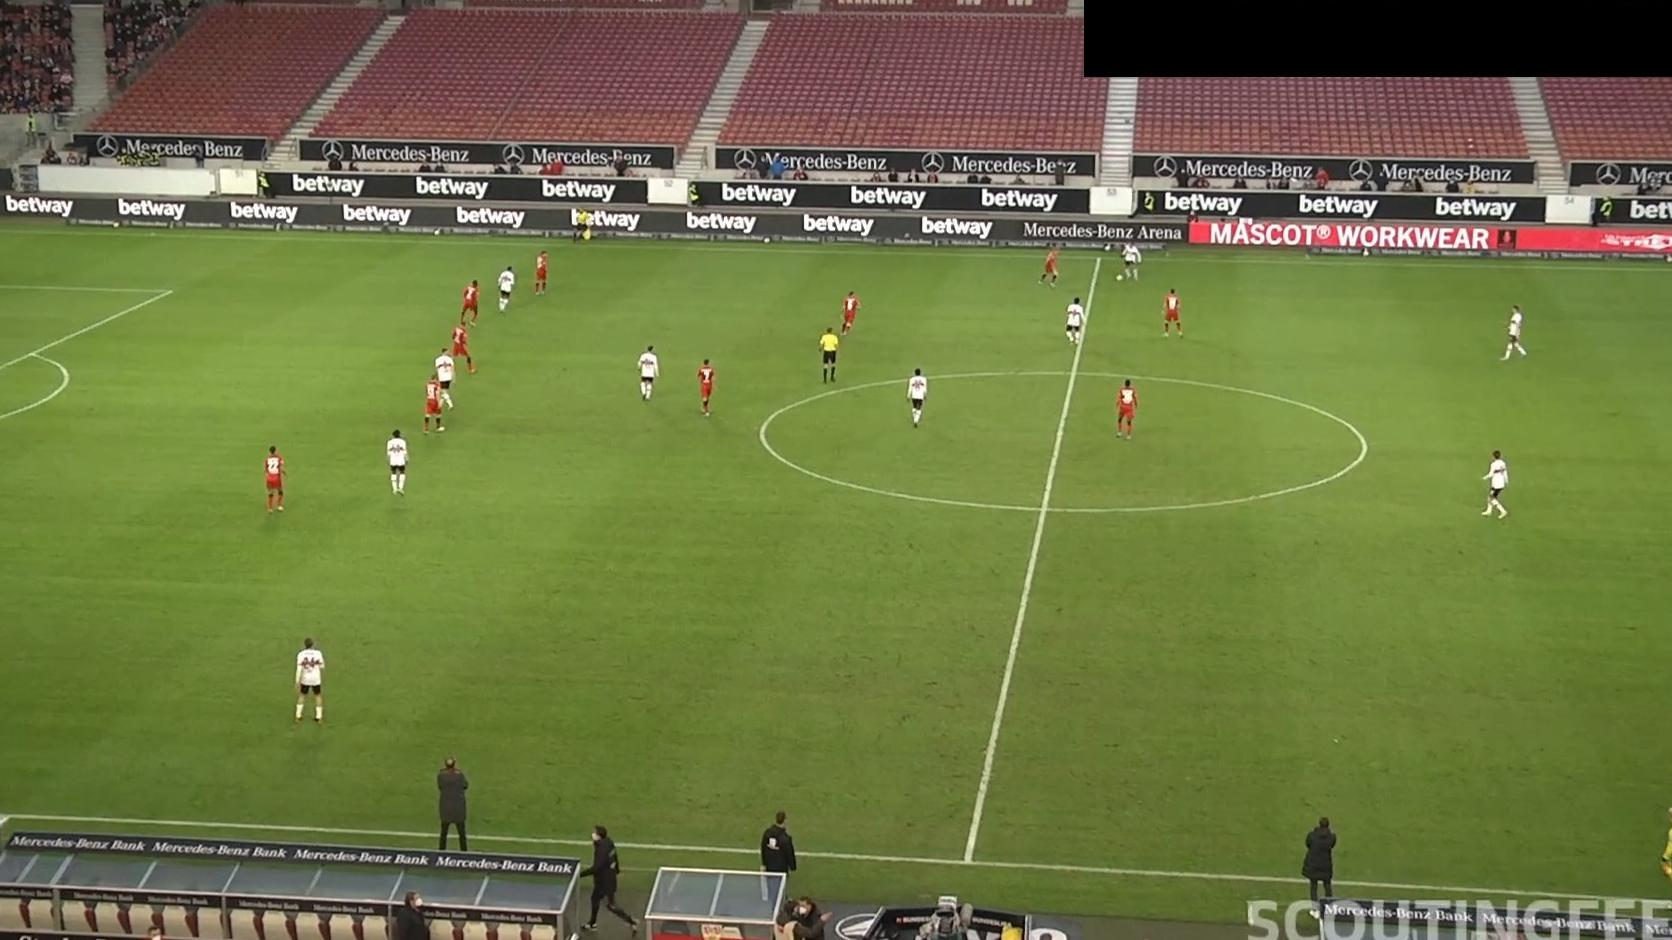ball: (1115, 273, 1124, 282)
